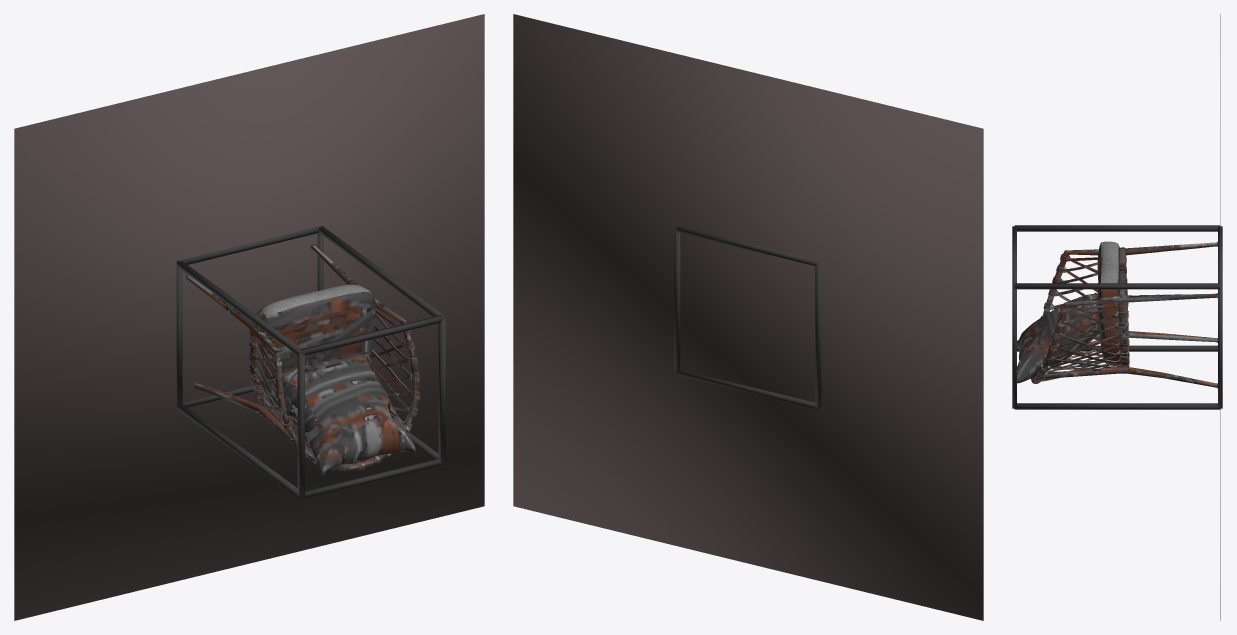
3 renders of one model, left to right at view 1: azimuth 30°, elevation 25°; view 2: azimuth 150°, elevation 25°; view 3: azimuth 270°, elevation 25°, orthographic. The views are drawn at different scales.
Bounding box in the file's own units: 2 × 2 × 0.9212.
